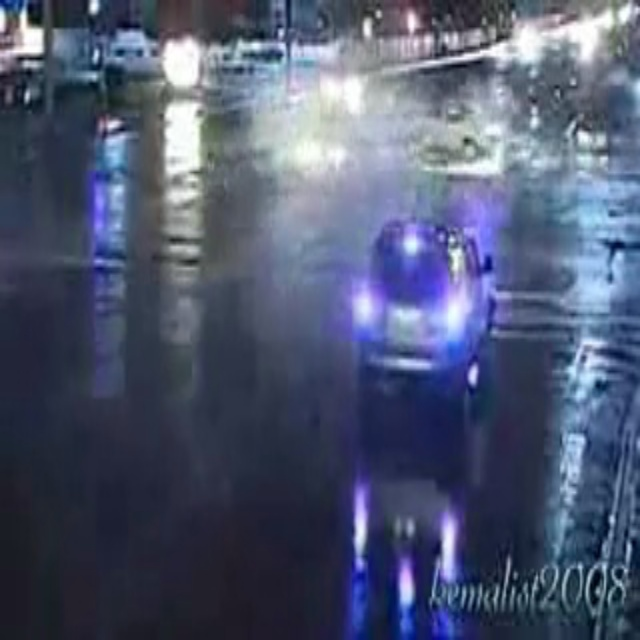acc: (365, 89, 630, 185)
